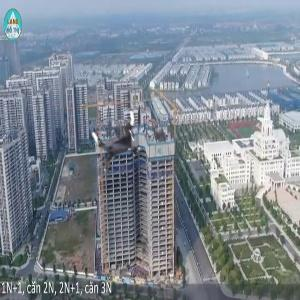drone: (89, 112, 150, 173)
